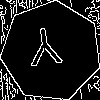Y: (26, 26, 64, 76)
